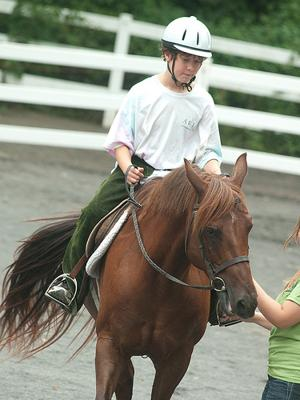person: (45, 15, 250, 322)
